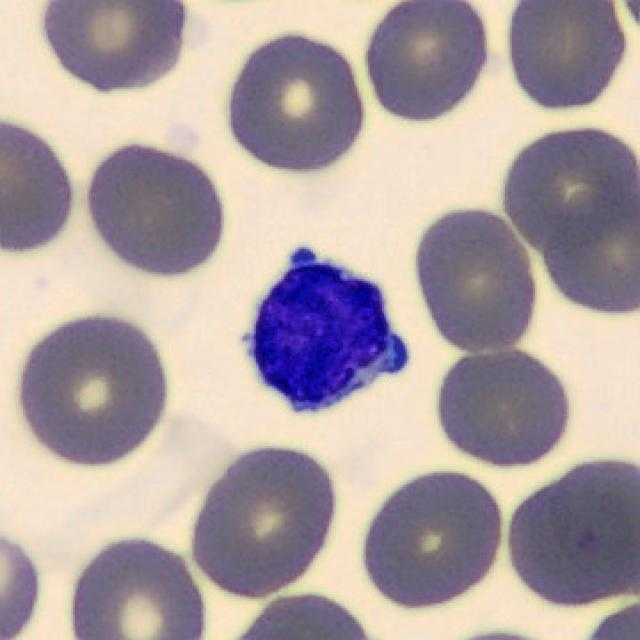Linfocito: (244, 249, 405, 409)
